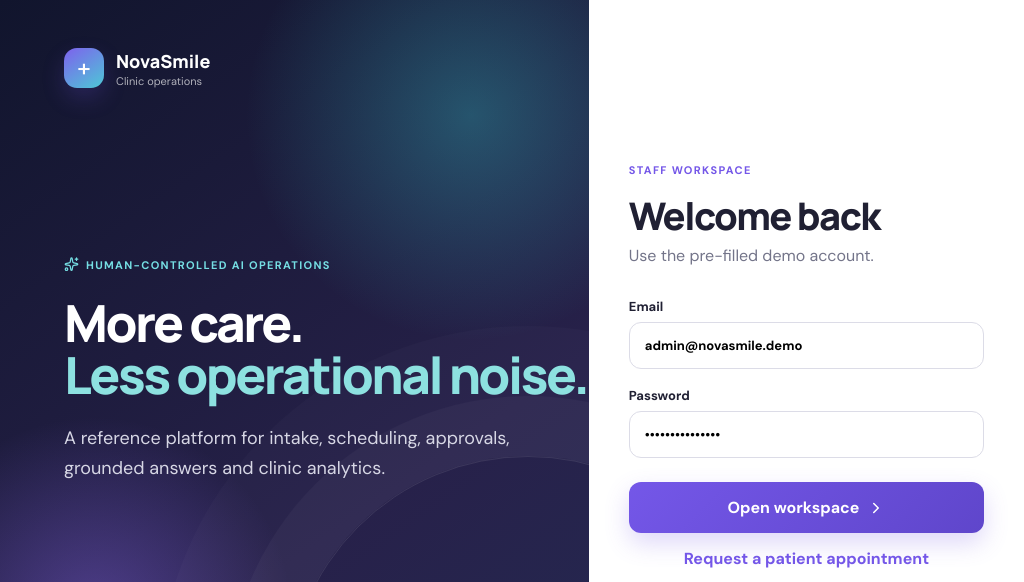
clinic web application › opens human approval queue
Click the button "Open workspace" at (806, 508), box x1=629 y1=482 x2=984 y2=533
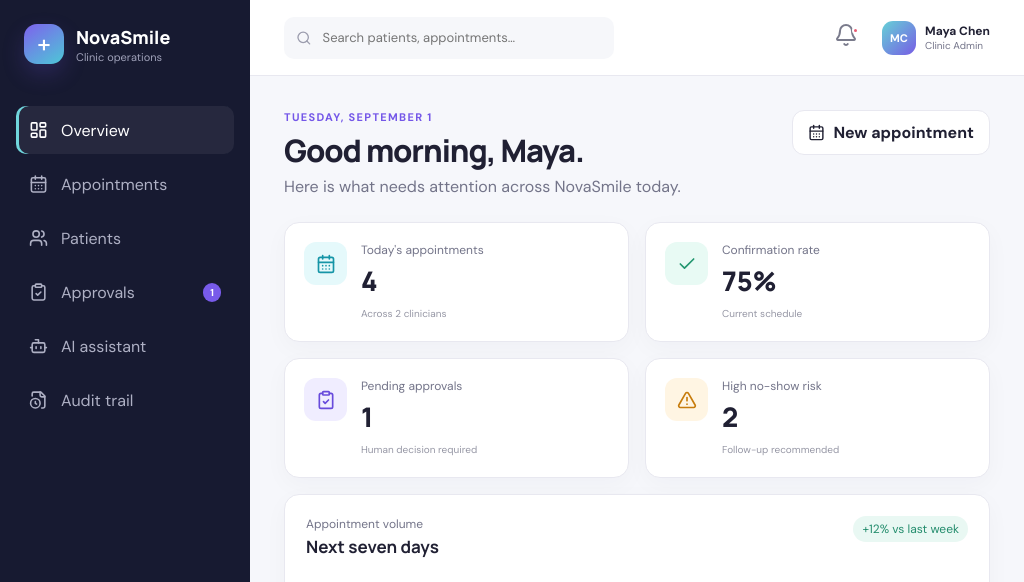
Now the heading "Good morning, Maya." is shown, box x1=284 y1=129 x2=584 y2=171
Click the button "Approvals 1" at (125, 292), box x1=16 y1=268 x2=234 y2=316
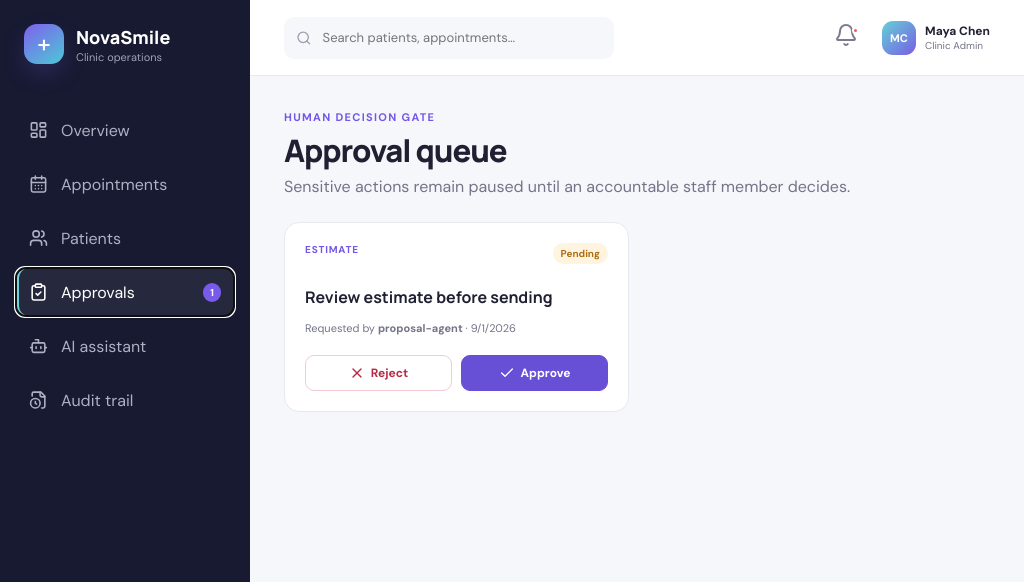
Now the heading "Review estimate before sending" is shown, box x1=305 y1=286 x2=552 y2=308
